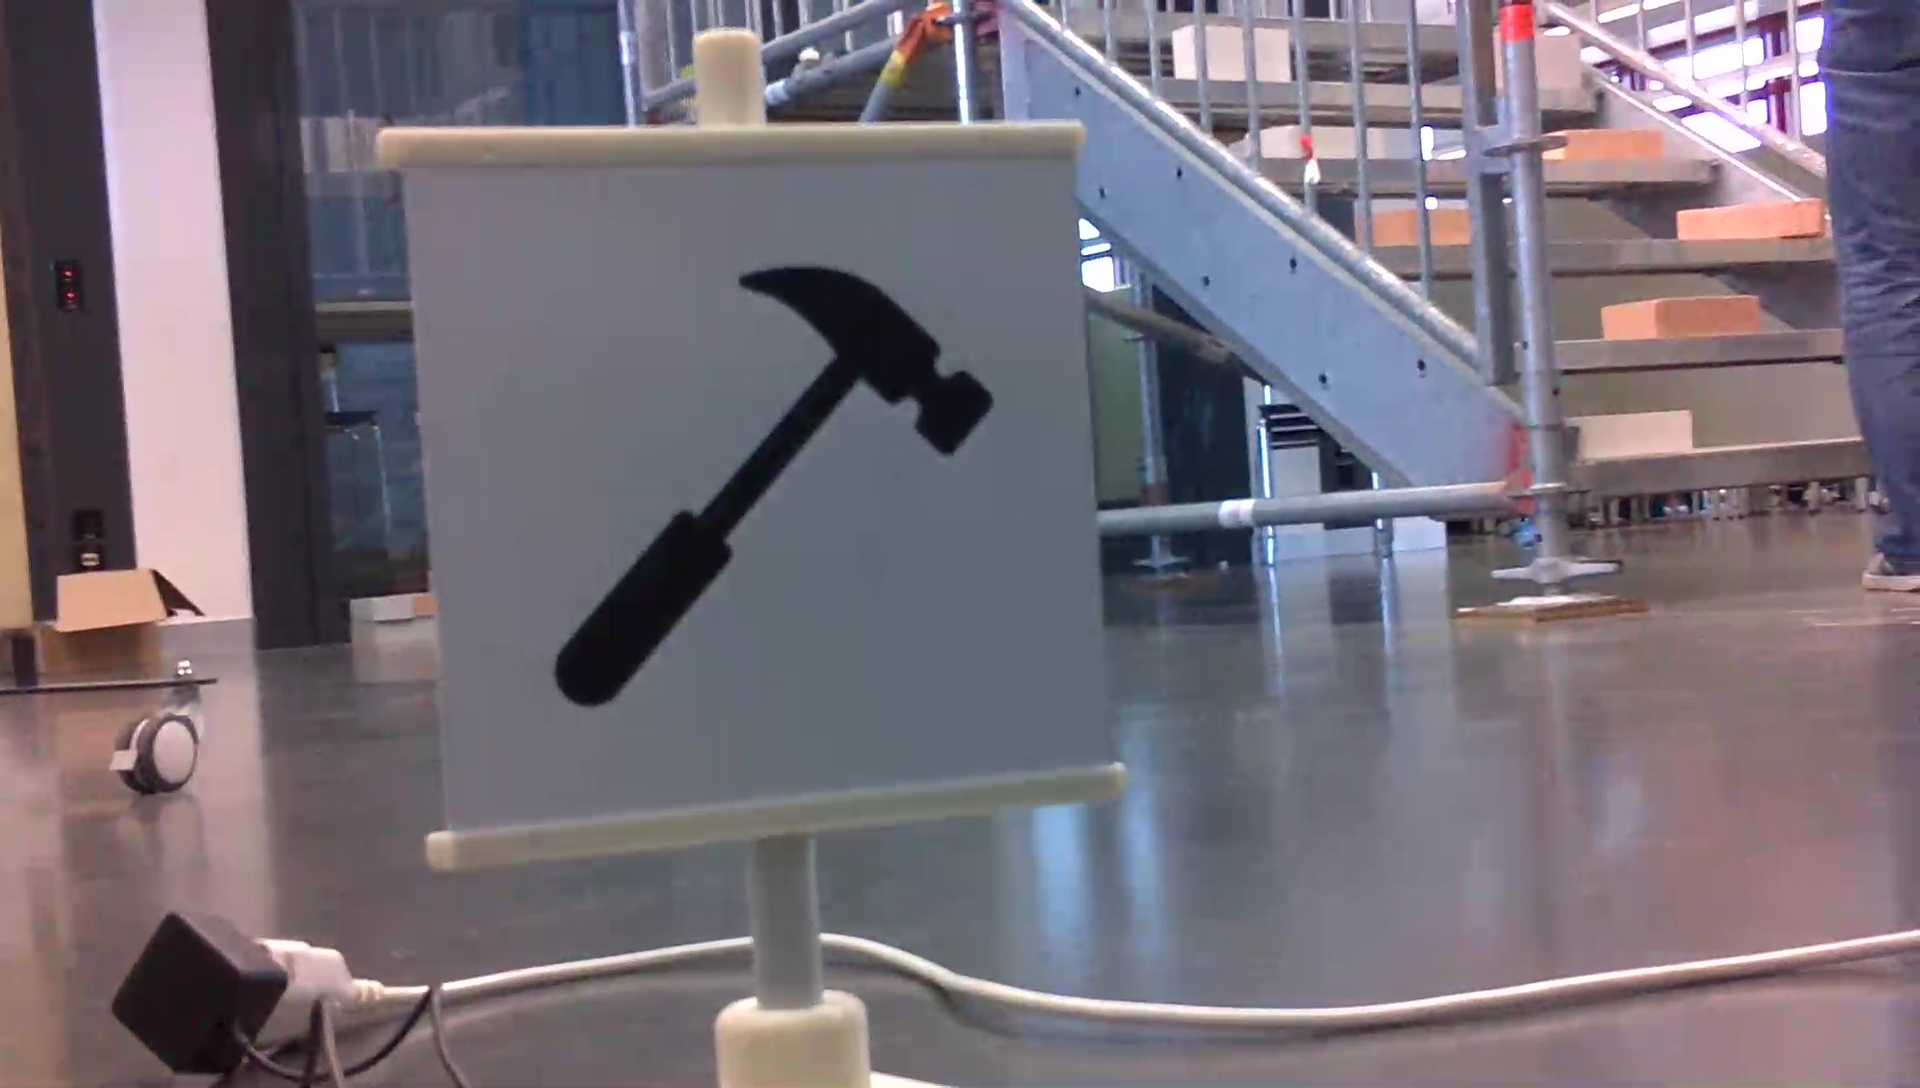brick: (1601, 291, 1759, 335), (1568, 411, 1689, 455), (1677, 200, 1820, 237), (1549, 129, 1663, 161), (1532, 36, 1578, 88)
hammer: (545, 256, 1005, 712)
